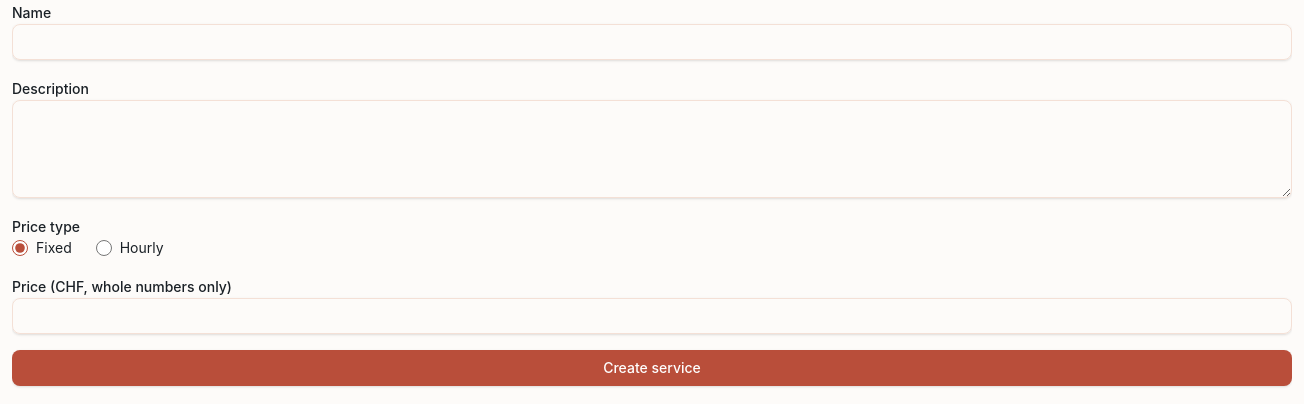
Test case: ServiceForm — create mode › disables the submit button while pending
Type "Sewing kit" into the field labelled "Name" at {"x": 652, "y": 42}, box [12,24,1292,60]
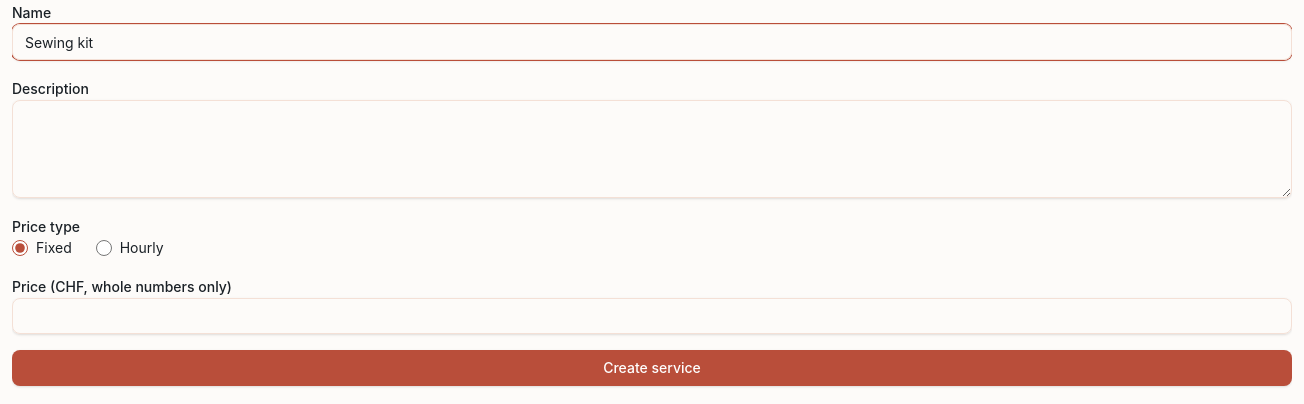
Type "Bring a kit." into the text box labelled "Description" at {"x": 652, "y": 149}, box [12,100,1292,198]
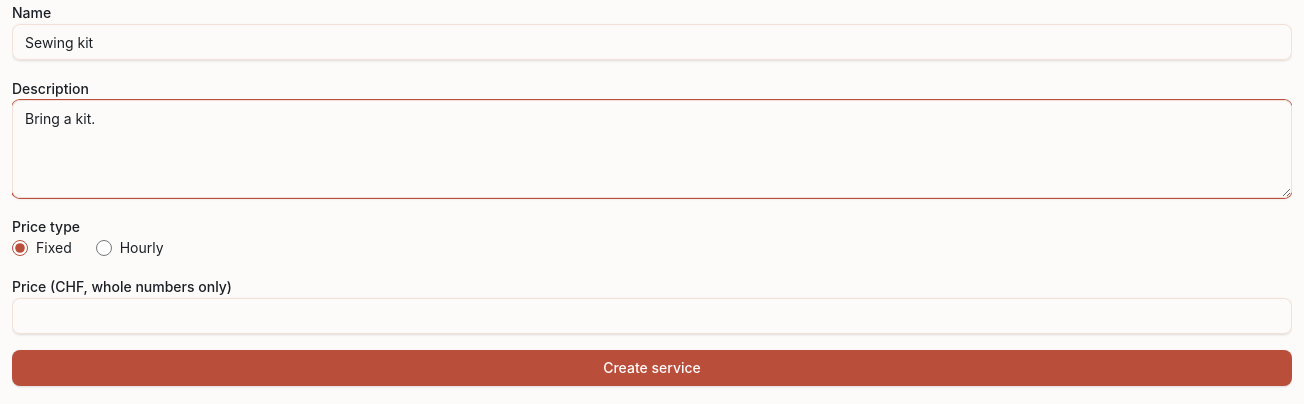
Type "25" into the number field labelled "Price (CHF, whole numbers only)" at {"x": 652, "y": 316}, box [12,298,1292,334]
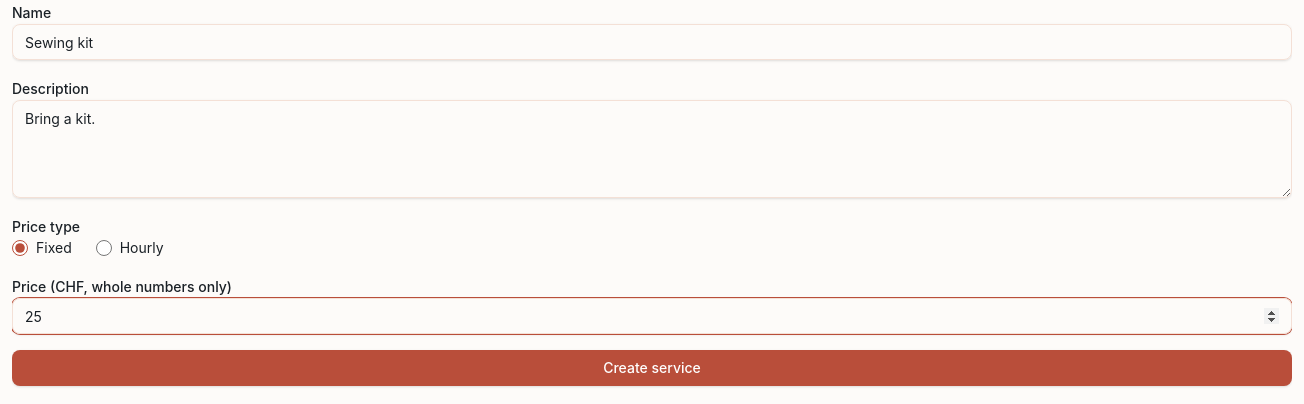
Click the button "Create service" at {"x": 652, "y": 368}, box [12,350,1292,386]
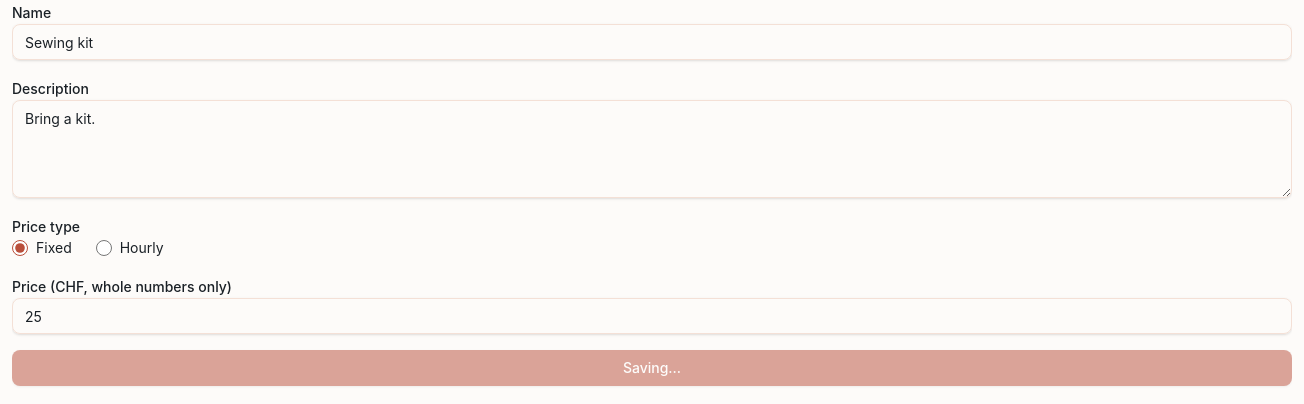
Expected: the button "Saving…" is disabled, [12,350,1292,386]
